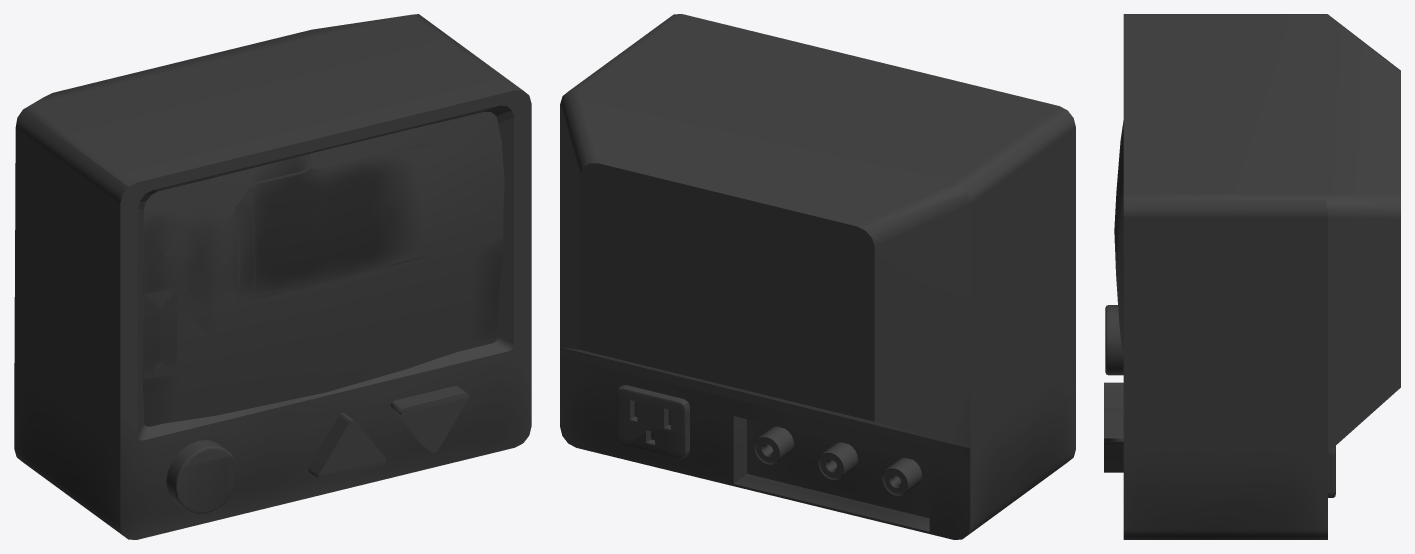
The model's file is CRT.fbx.
3 views of the same model, side by side, from view 1: azimuth 30°, elevation 25°; view 2: azimuth 150°, elevation 25°; view 3: azimuth 270°, elevation 25° (orthographic). The views are drawn at different scales.
Parts seen in each view (by area): view 1: TV_Main, TV_Screen, TV_Power, TV_Volup, TV_Voldown; view 2: TV_Main; view 3: TV_Main, TV_Screen, TV_Voldown, TV_Power, TV_Volup.
Part boxes in pixels (bbox=[...]): TV_Main: bbox=[14, 14, 531, 539]; TV_Screen: bbox=[141, 112, 504, 426]; TV_Power: bbox=[166, 440, 238, 513]; TV_Volup: bbox=[308, 413, 386, 479]; TV_Voldown: bbox=[390, 386, 468, 452]; TV_Main: bbox=[560, 14, 1075, 539]; TV_Main: bbox=[1123, 14, 1400, 539]; TV_Screen: bbox=[1114, 120, 1123, 358]; TV_Voldown: bbox=[1104, 407, 1123, 472]; TV_Power: bbox=[1105, 305, 1123, 375]; TV_Volup: bbox=[1104, 382, 1123, 407].
Bounding box in the file's own units: 67.53 × 56.08 × 43.75.
